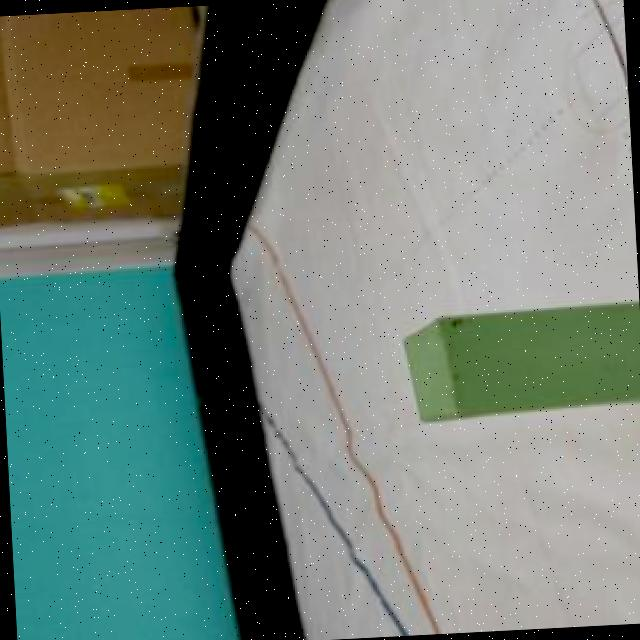greenbox: (395, 298, 640, 425)
